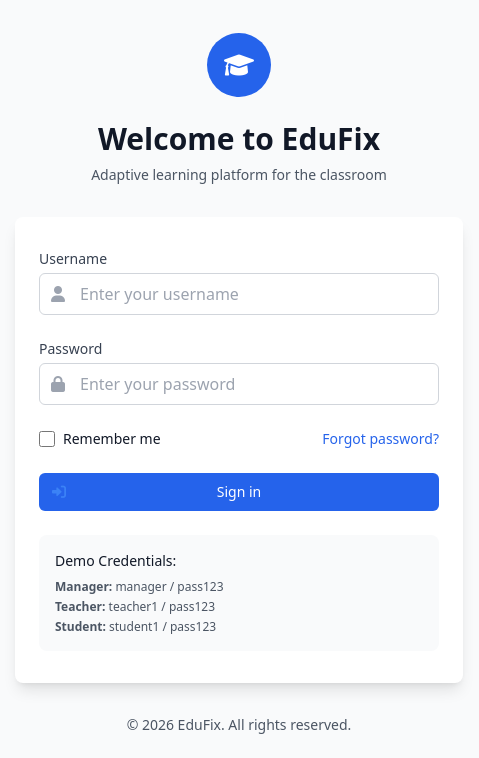
Test case: Login Component › Error Handling › shows network error message
// Fill form
Type "student1" into the field labelled "Username" at (239, 294), box [39,273,439,315]
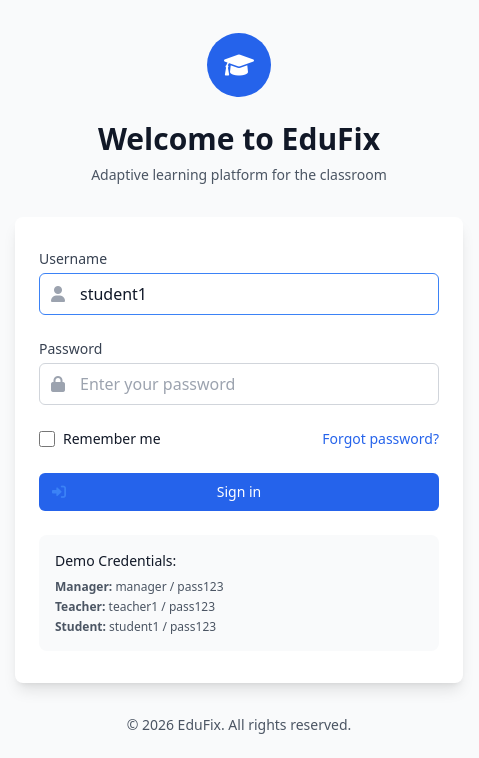
Type "pass123" into the password field labelled "Password" at (239, 384), box [39,363,439,405]
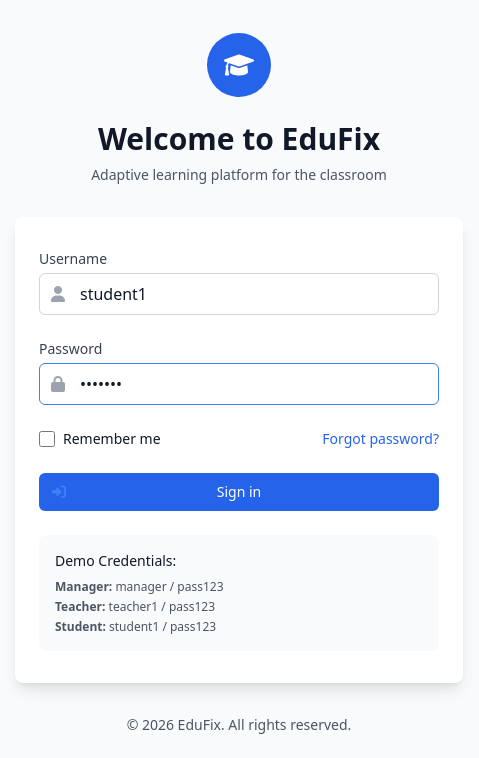
// Submit form
Click the button "Sign in" at (239, 492), box [39,473,439,511]
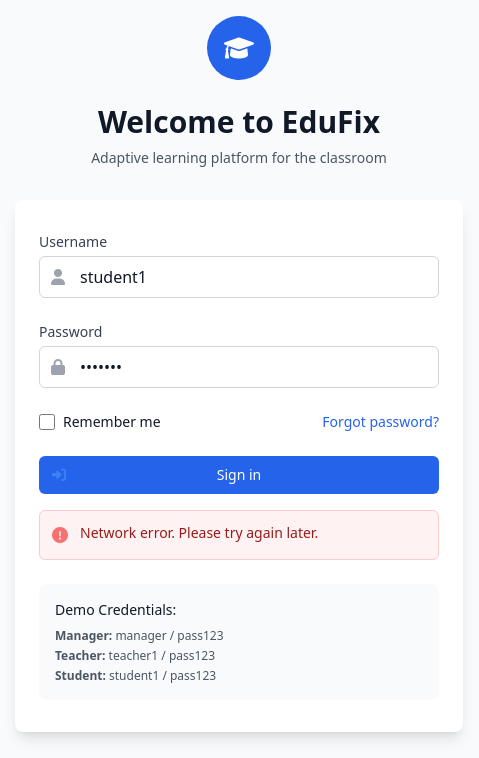
Expected: the text "Network error. Please try again later." is shown, [80,523,318,543]
